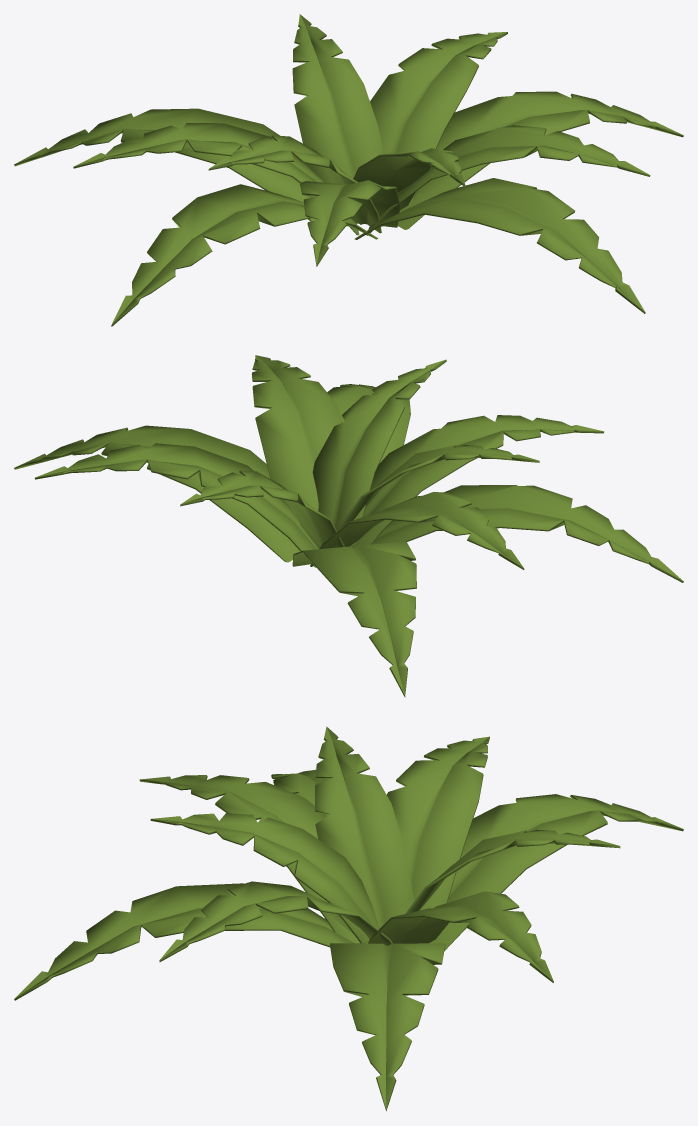
Rendered from green_04.glb.
The picture shows the model from 3 angles, top to bottom: view 1: azimuth 30°, elevation 25°; view 2: azimuth 150°, elevation 25°; view 3: azimuth 270°, elevation 25°; orthographic projection. The views are drawn at different scales.
Visible parts, largest first — view 1: green_04; view 2: green_04; view 3: green_04.
Part boxes in pixels (left/top/right/bottom): green_04: left=14, top=14, right=683, bottom=326; green_04: left=14, top=355, right=683, bottom=697; green_04: left=14, top=726, right=683, bottom=1110.
Size of the model in its own units: 1.14 by 0.2066 by 0.9795.
Materials: 1 (1 with a texture image).
